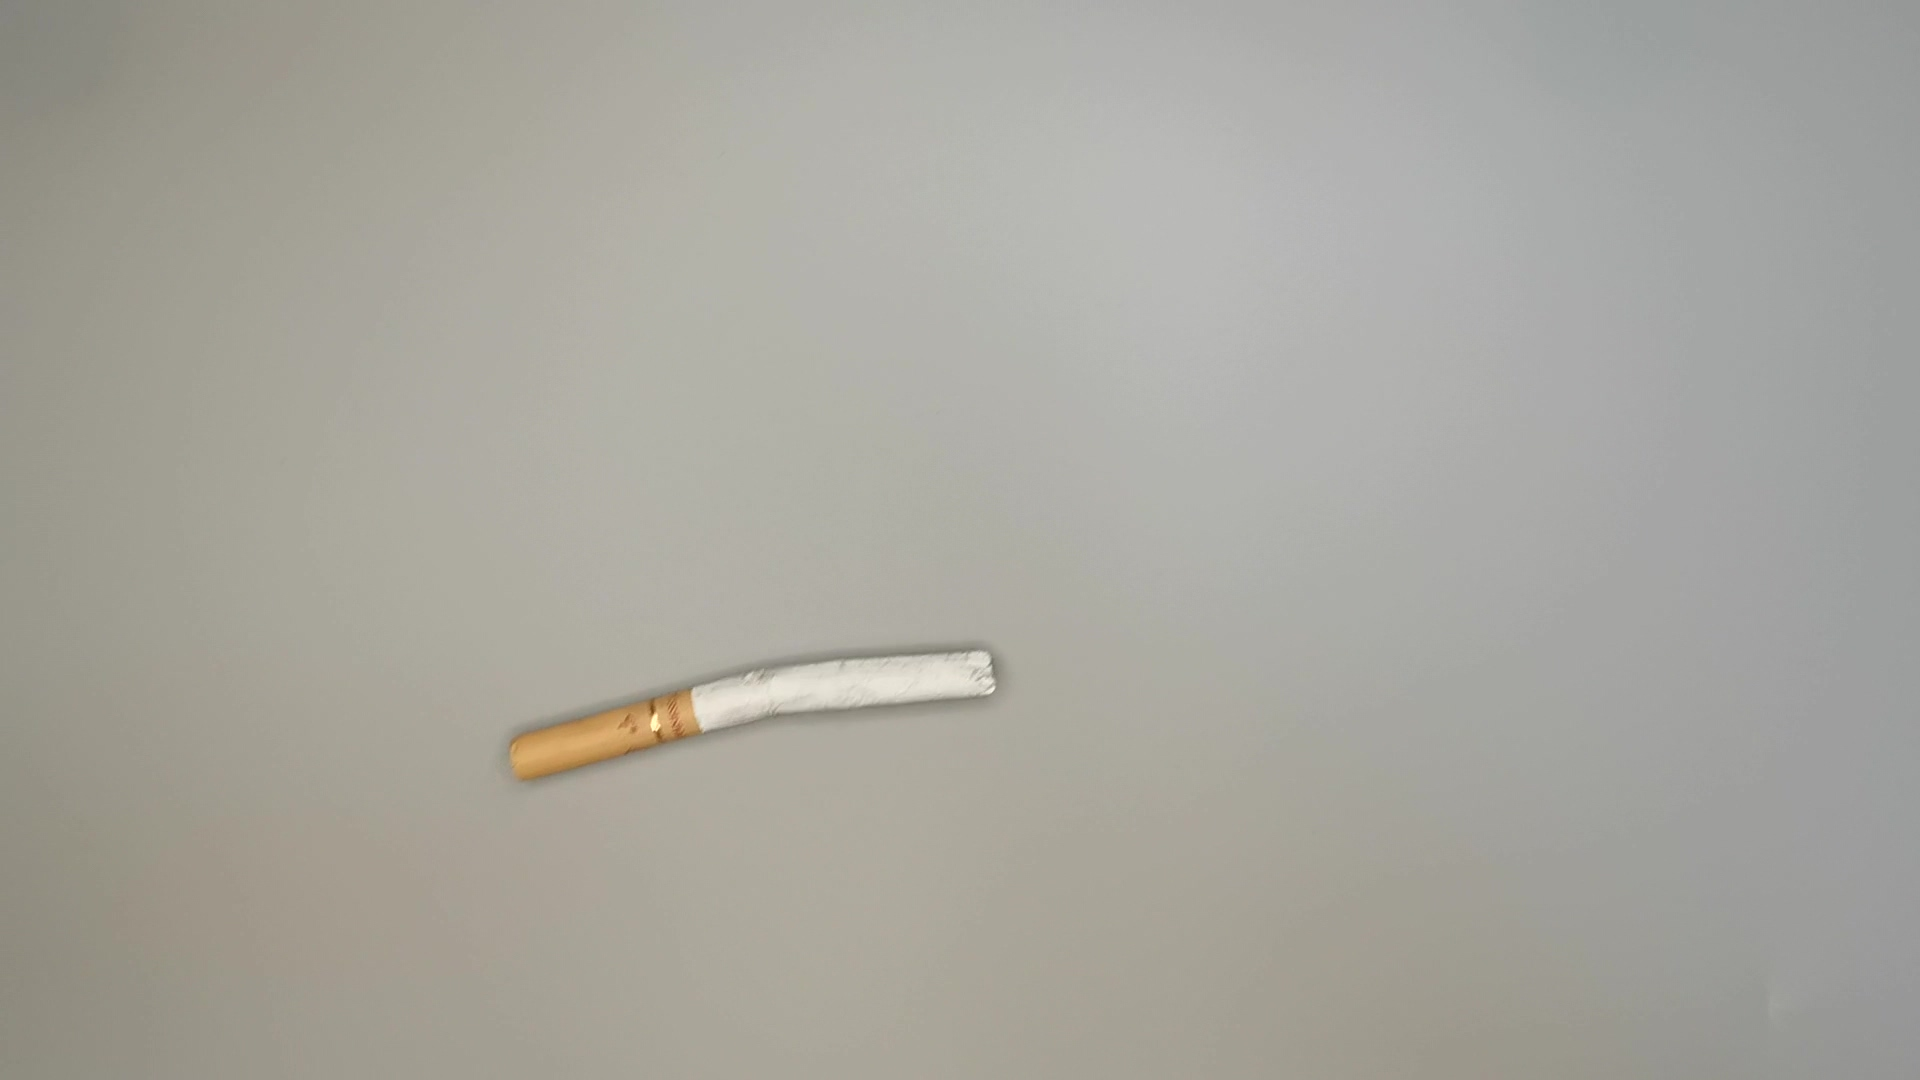cigarette: (506, 646, 1007, 794)
